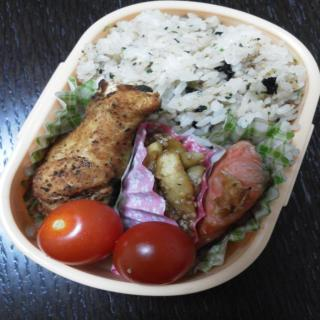tomato: (36, 196, 132, 263), (110, 222, 198, 286)
